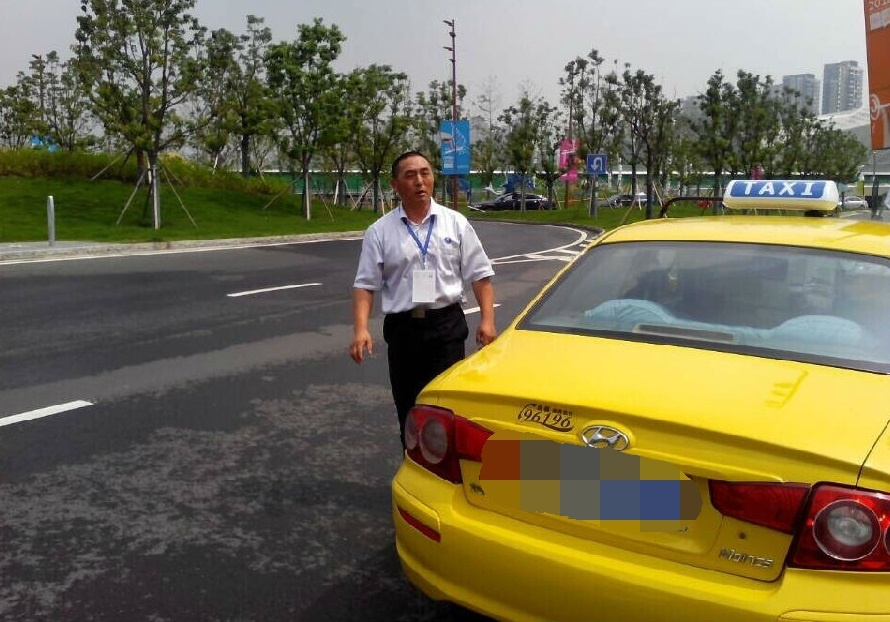taxi: (433, 180, 889, 622)
